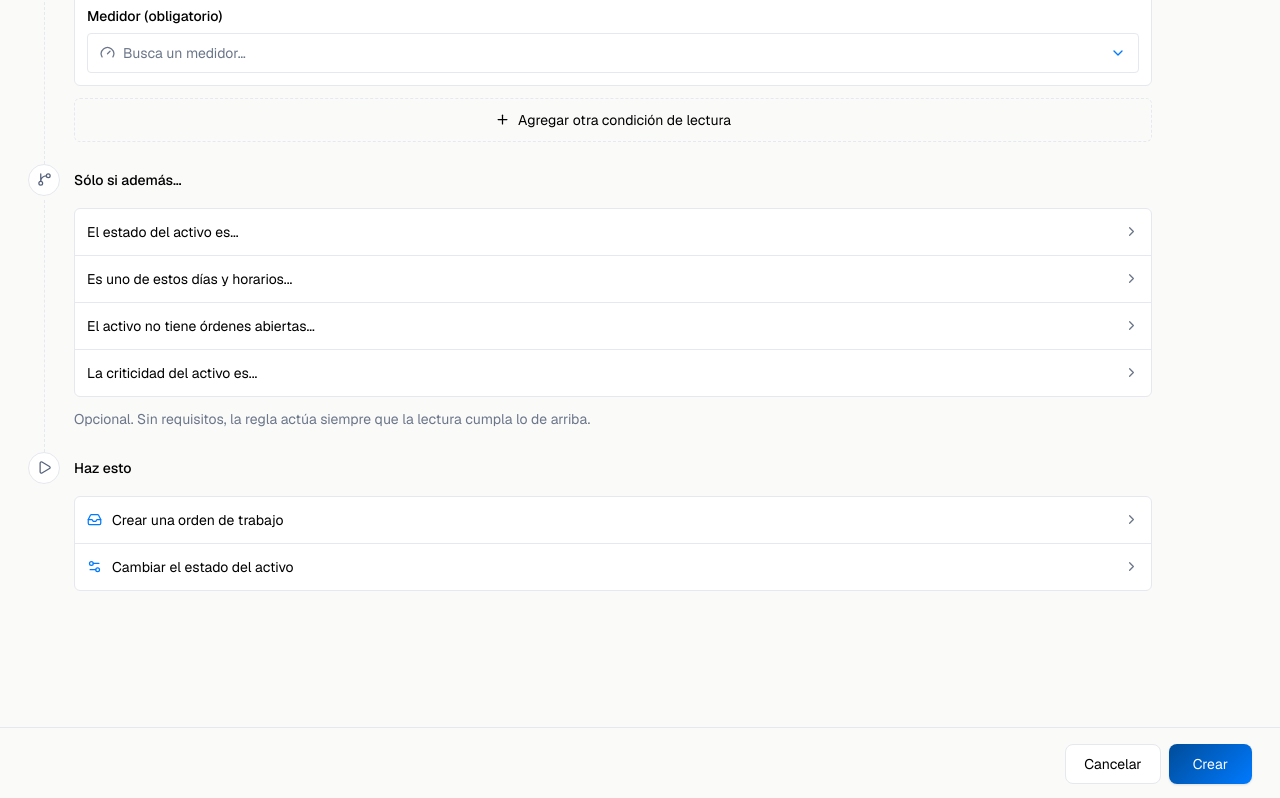
Scenario: AutomatizacionCrearPanel — varias acciones › borrar la última acción devuelve el paso al selector
The width and height of the screenshot is (1280, 798).
(page scrolled)
Click the button with aria-label "Agregar acción: Crear una orden de trabajo" at coordinates (198, 520), box [75,497,1151,543]
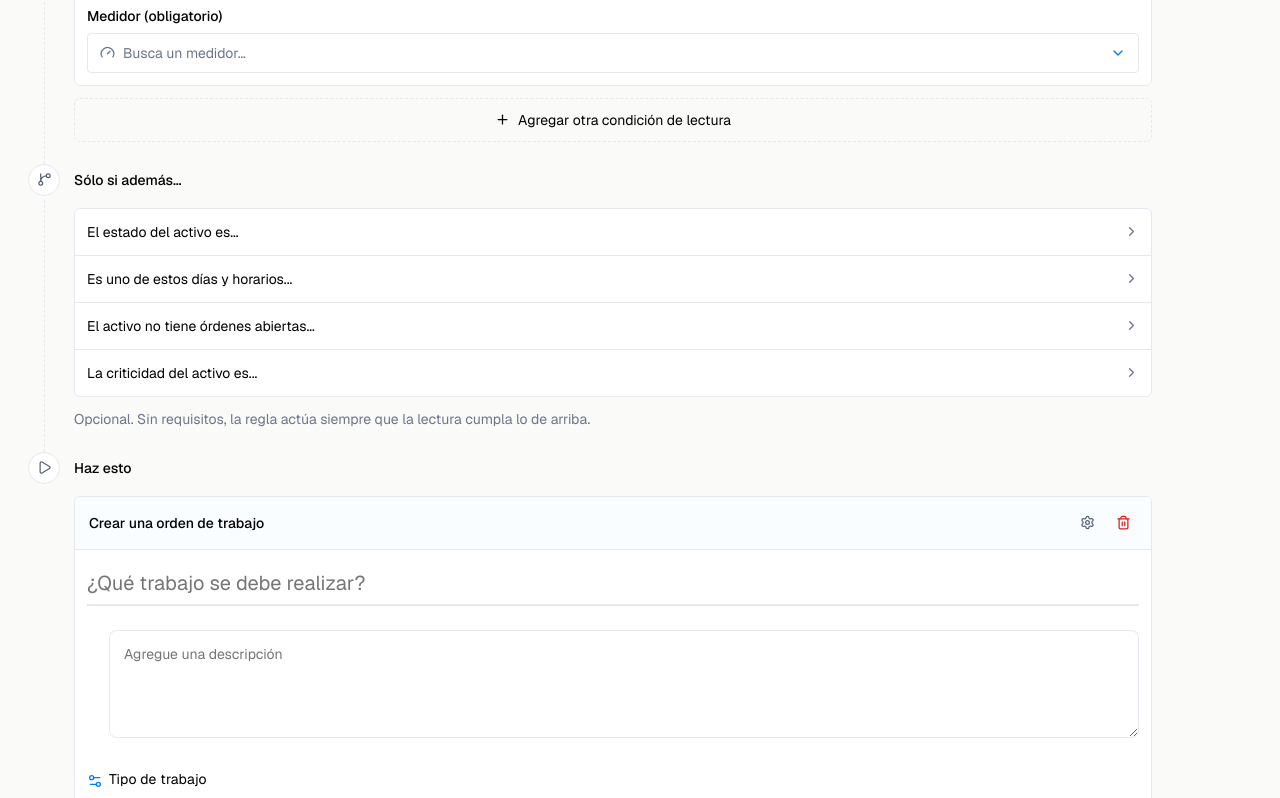
Type "Algo" into the field with placeholder "¿Qué trabajo se debe realizar?" at coordinates (613, 584), box [87,562,1139,606]
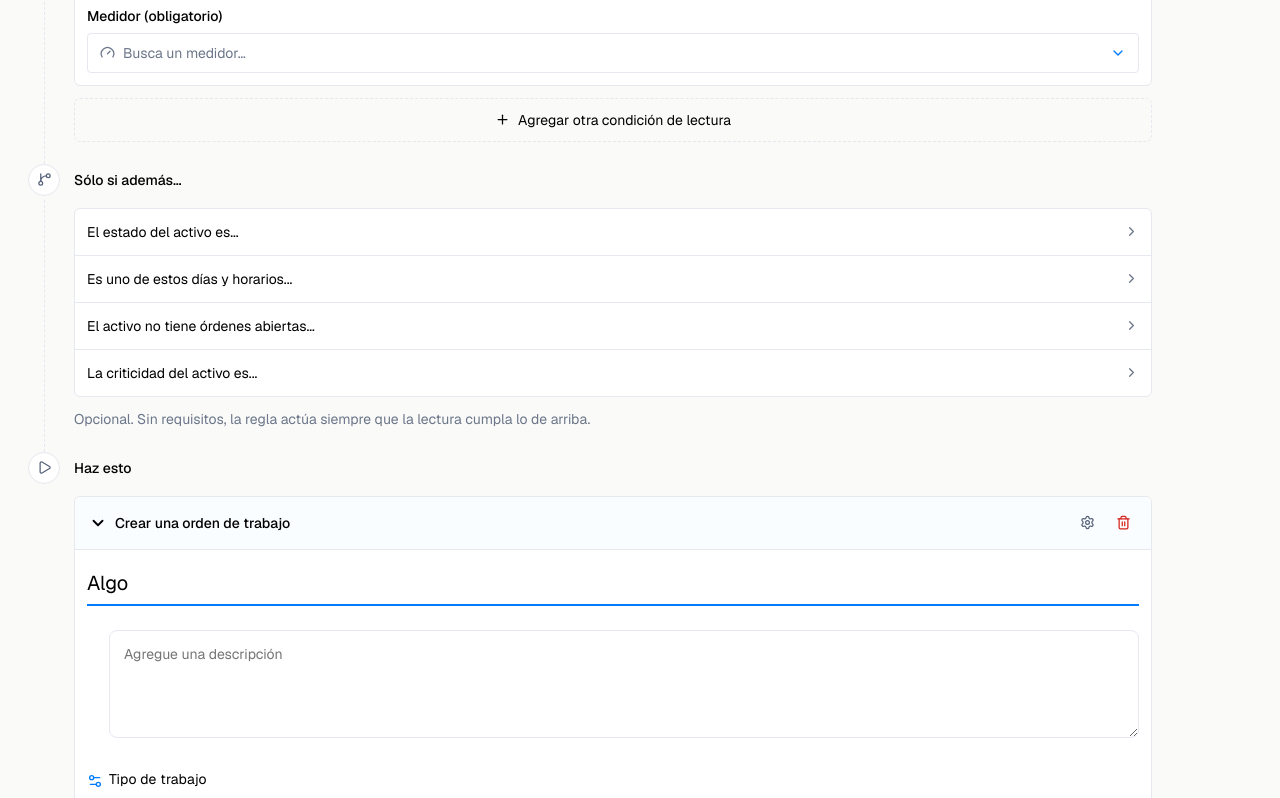
Click the button named "Borrar lo que hace esta regla" at coordinates (1123, 523), box [1109,509,1137,537]
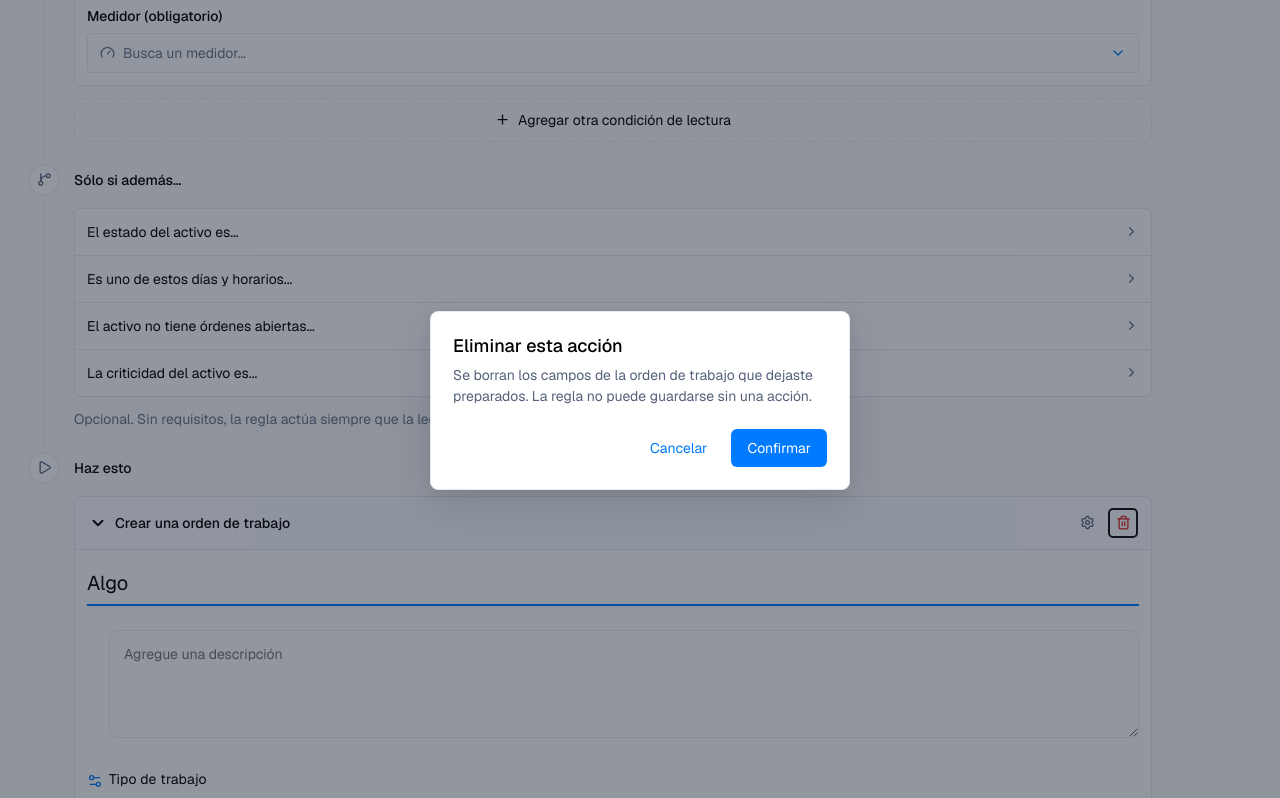
Click the button "Confirmar" at coordinates (779, 448), box [731,428,827,466]
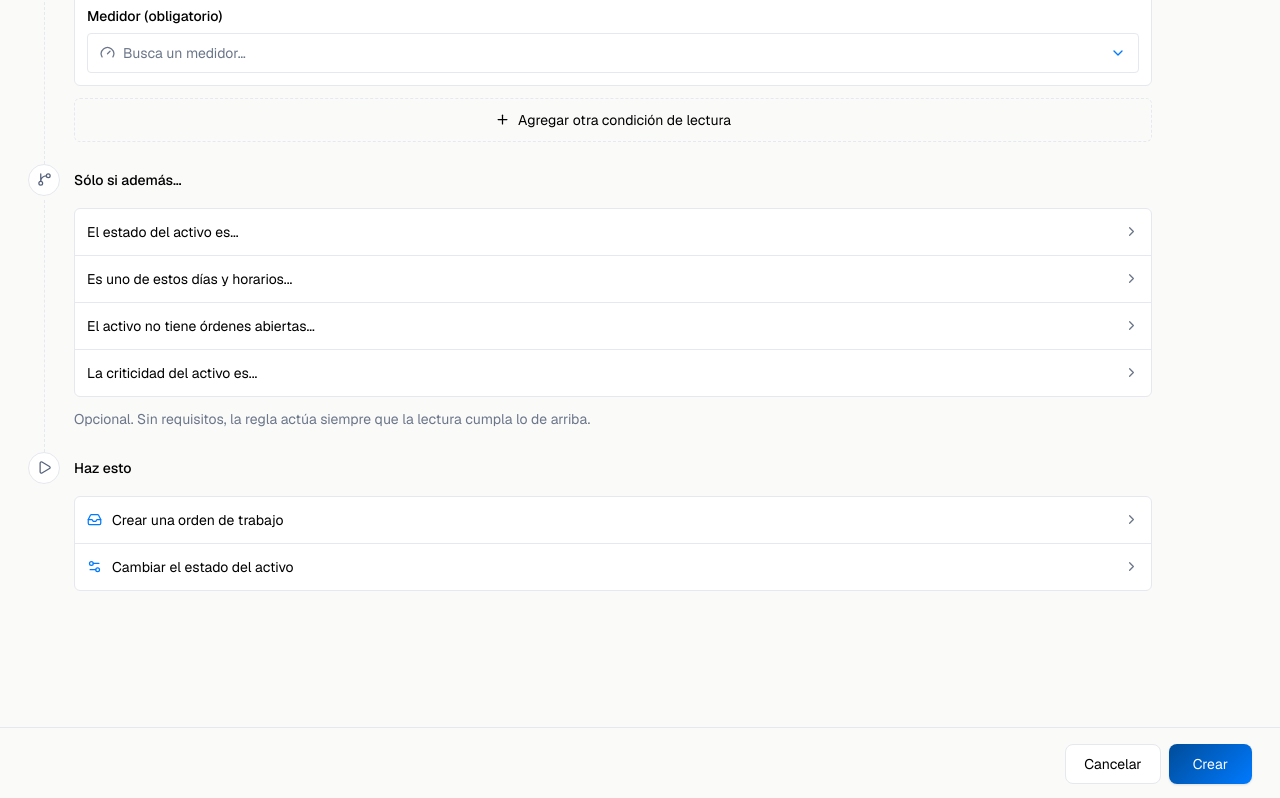
Expected: the button with aria-label "Agregar acción: Crear una orden de trabajo" is shown, [75,497,1151,543]
